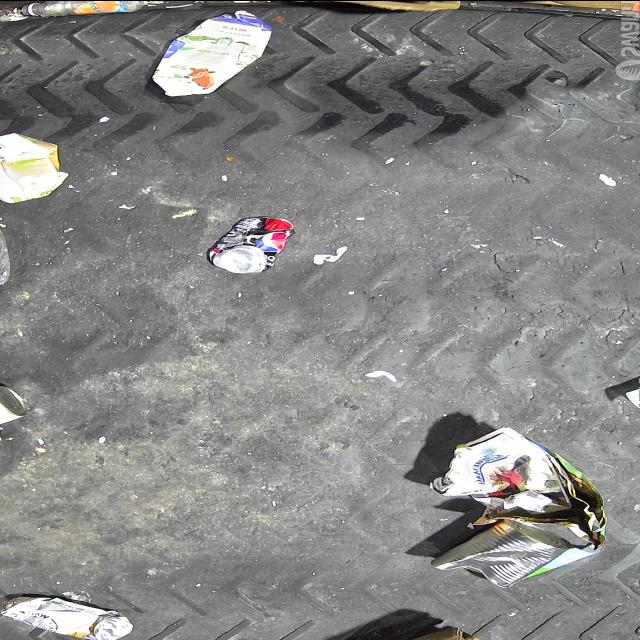can: (431, 518, 574, 588), (0, 595, 134, 640), (208, 215, 296, 273), (0, 384, 26, 432)
non_white_jug: (152, 10, 272, 96), (0, 132, 70, 204)
plastic_bottle: (22, 0, 144, 16), (0, 190, 11, 300)
